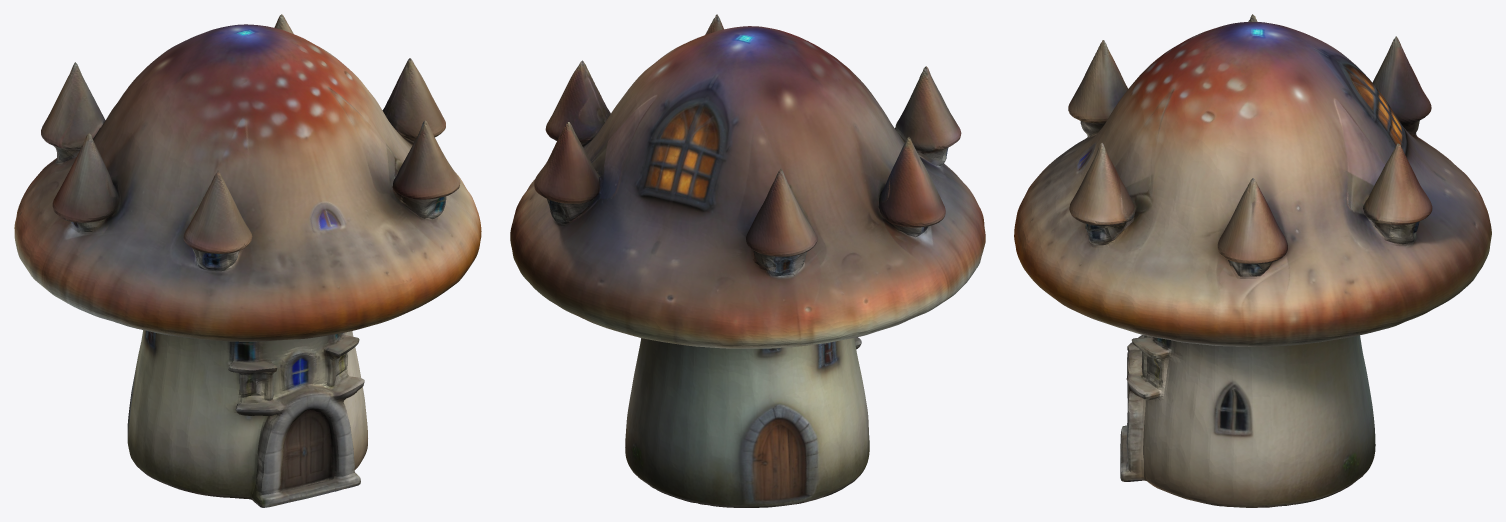
Rendered from Mushroom House.glb.
3 views of the same model, side by side, from view 1: azimuth 30°, elevation 25°; view 2: azimuth 150°, elevation 25°; view 3: azimuth 270°, elevation 25° (orthographic). The views are drawn at different scales.
Bounding box in the file's own units: 2 × 1.97 × 2.
Materials: 1 (1 with a texture image).
